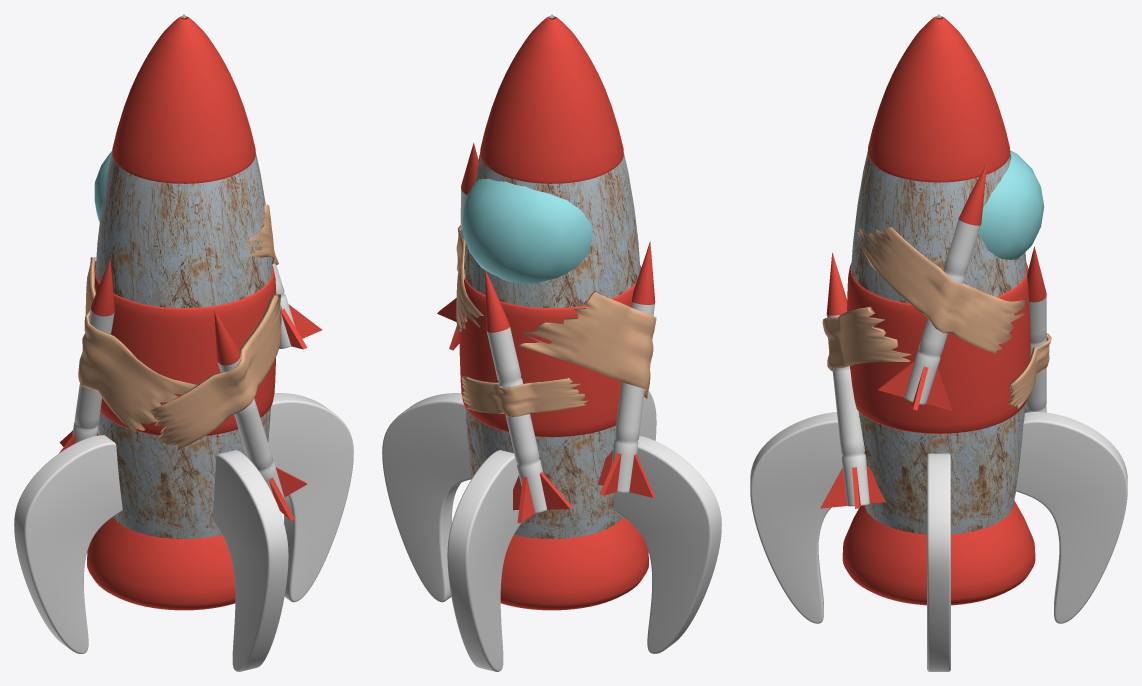
File: rocketRocket.fbx
3 views of the same model, side by side, from view 1: azimuth 30°, elevation 25°; view 2: azimuth 150°, elevation 25°; view 3: azimuth 270°, elevation 25° (orthographic).
Parts seen in each view (by area): view 1: RocketFins; view 2: RocketFins; view 3: RocketFins.
Boxes of the visible parts, x1,y1,x2,y2 form: RocketFins: [14, 14, 353, 671]; RocketFins: [382, 14, 721, 671]; RocketFins: [750, 14, 1127, 671].
Size of the model in its own units: 446 by 789 by 446.
